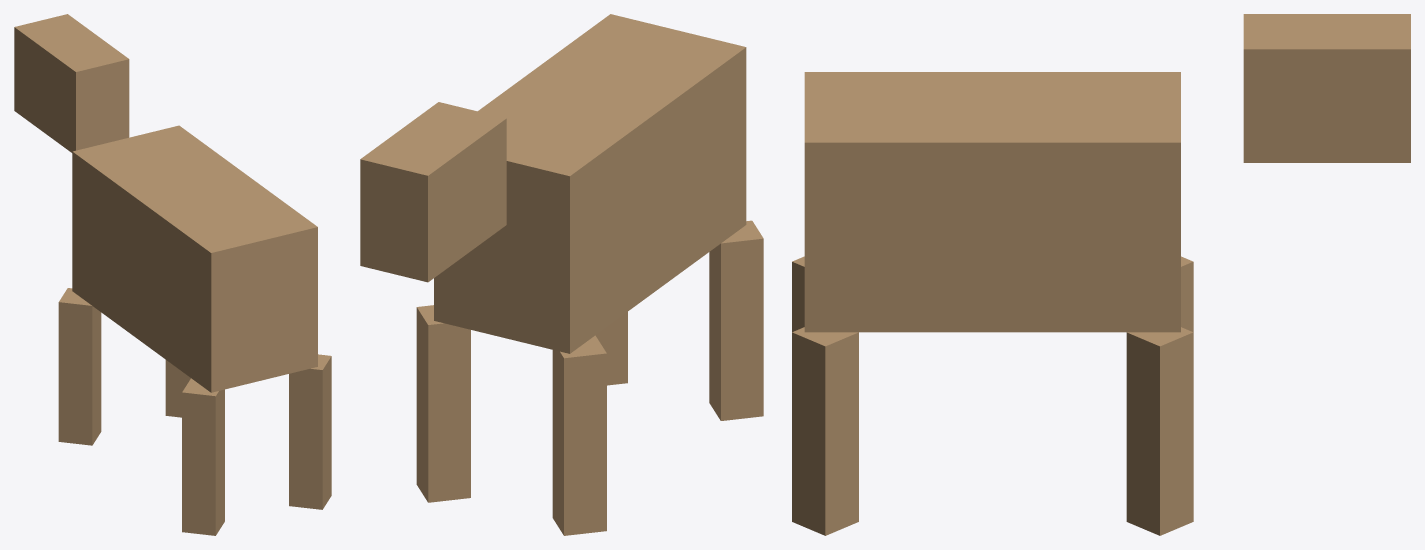
The model's file is horses.glb.
The picture shows the model from 3 angles, left to right: view 1: azimuth 30°, elevation 25°; view 2: azimuth 150°, elevation 25°; view 3: azimuth 270°, elevation 25°; orthographic projection. The views are drawn at different scales.
Visible parts, largest first — view 1: body, head, ll0.02, ll-0.02, lr-0.02, lr0.02; view 2: body, head, ll0.02, ll-0.02, lr0.02, lr-0.02; view 3: body, head, lr0.02, lr-0.02, ll-0.02, ll0.02.
Part boxes in pixels (bbox=[...]): body: bbox=[72, 125, 317, 392]; head: bbox=[14, 14, 129, 152]; ll0.02: bbox=[58, 288, 101, 445]; ll-0.02: bbox=[182, 378, 224, 535]; lr-0.02: bbox=[289, 354, 331, 509]; lr0.02: bbox=[165, 360, 190, 417]; body: bbox=[434, 14, 746, 353]; head: bbox=[360, 102, 506, 282]; ll0.02: bbox=[552, 335, 606, 535]; ll-0.02: bbox=[709, 220, 763, 420]; lr0.02: bbox=[416, 305, 470, 502]; lr-0.02: bbox=[595, 312, 627, 385]; body: bbox=[804, 72, 1180, 332]; head: bbox=[1243, 14, 1410, 162]; lr0.02: bbox=[1126, 327, 1193, 535]; lr-0.02: bbox=[792, 327, 858, 535]; ll-0.02: bbox=[792, 256, 804, 331]; ll0.02: bbox=[1181, 256, 1193, 332].
Size of the model in its own units: 0.028 by 0.06 by 0.074.
